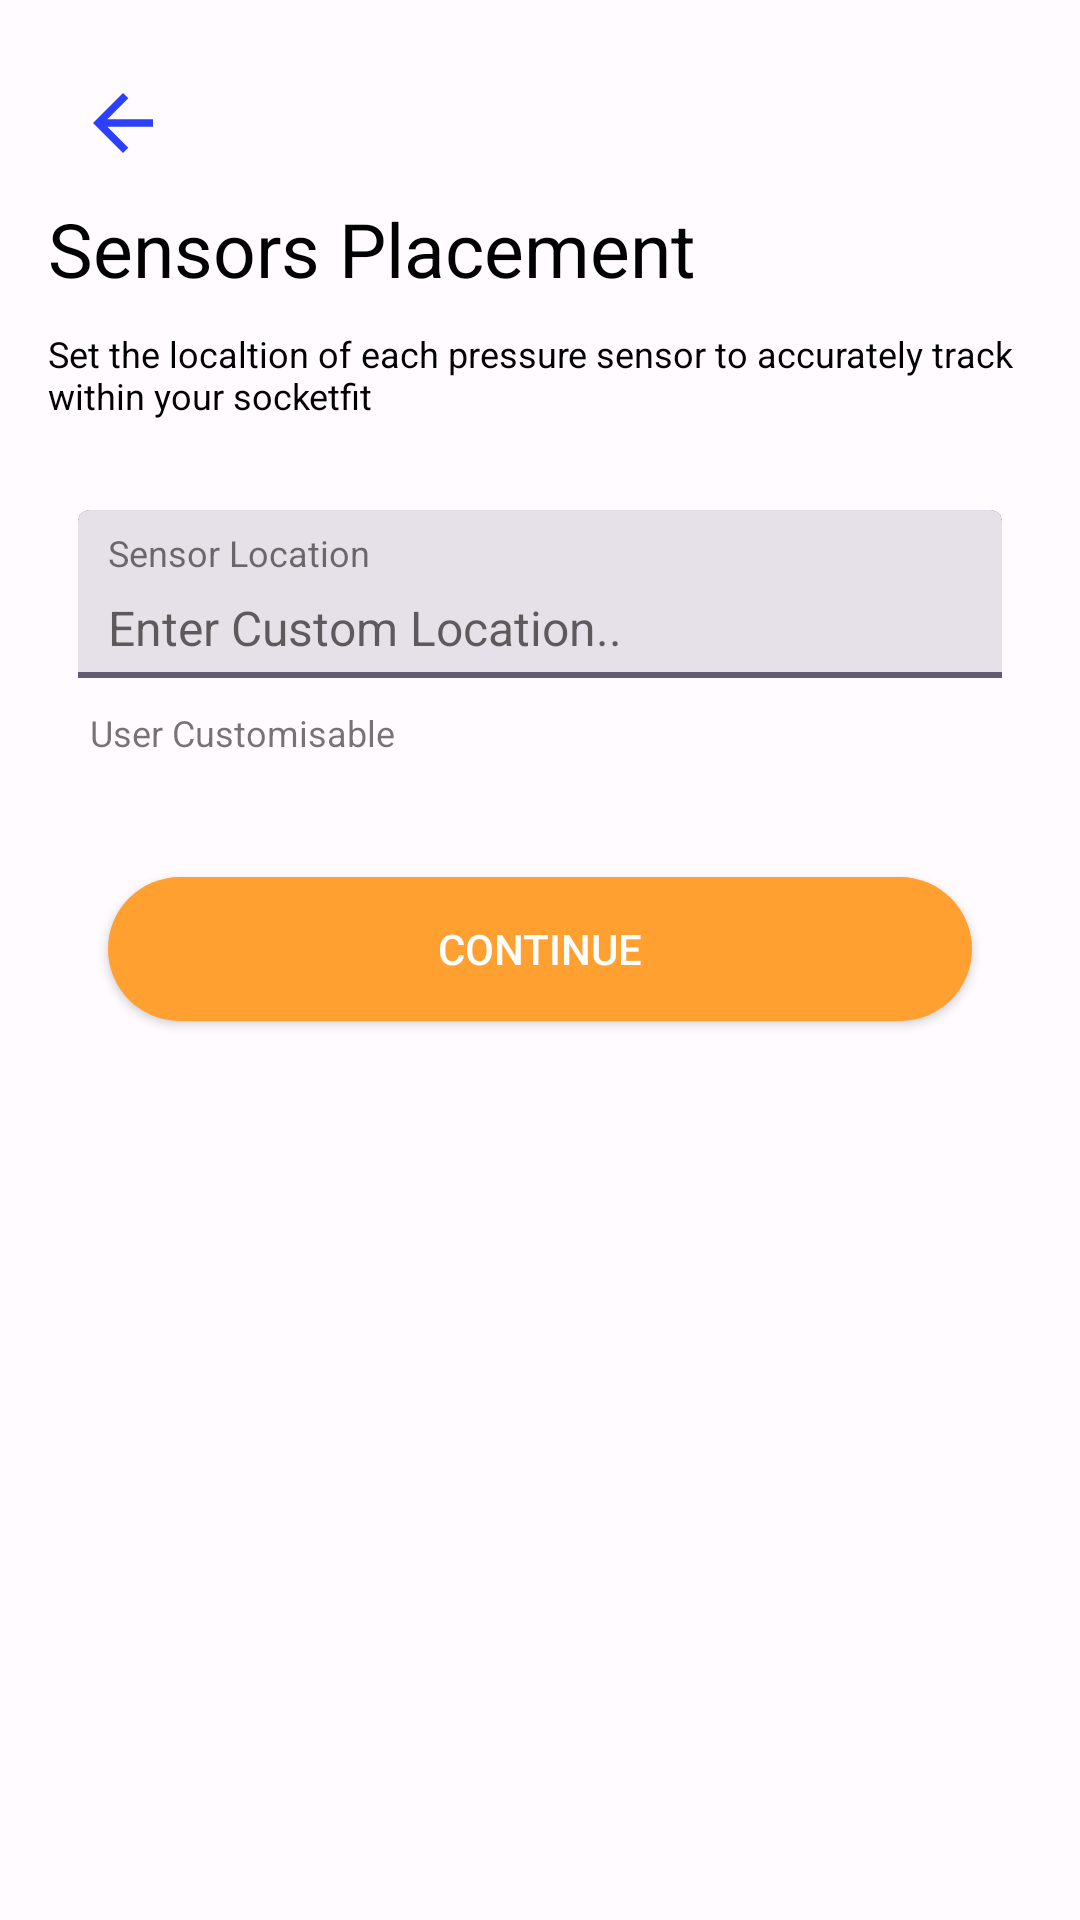

Screen size 1080px×1920px. Icon name, then its center in pixels as [x,y]:
back: [123,123]
